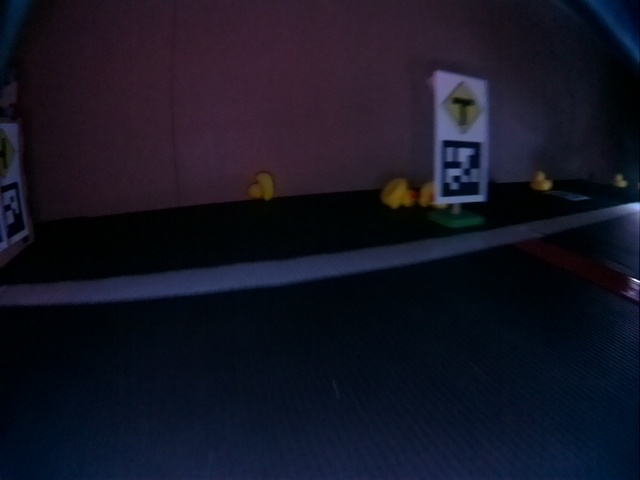Duckie: (381, 178, 414, 209), (250, 173, 273, 200), (419, 181, 438, 208), (532, 172, 552, 189)
Intersection sign: (442, 80, 485, 137), (1, 124, 17, 178)
QR code: (437, 140, 485, 194), (2, 185, 28, 248)
